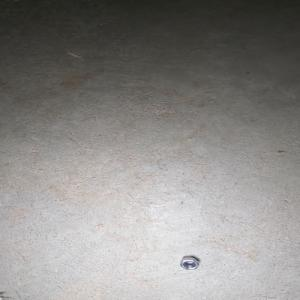Nut: (178, 256, 200, 270)
